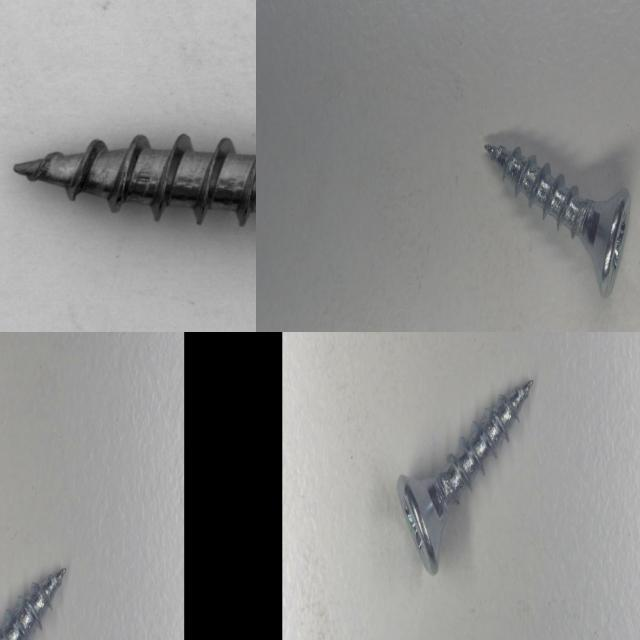Screw: (0, 83, 256, 311), (397, 380, 532, 574), (485, 144, 630, 297), (0, 568, 65, 640)
